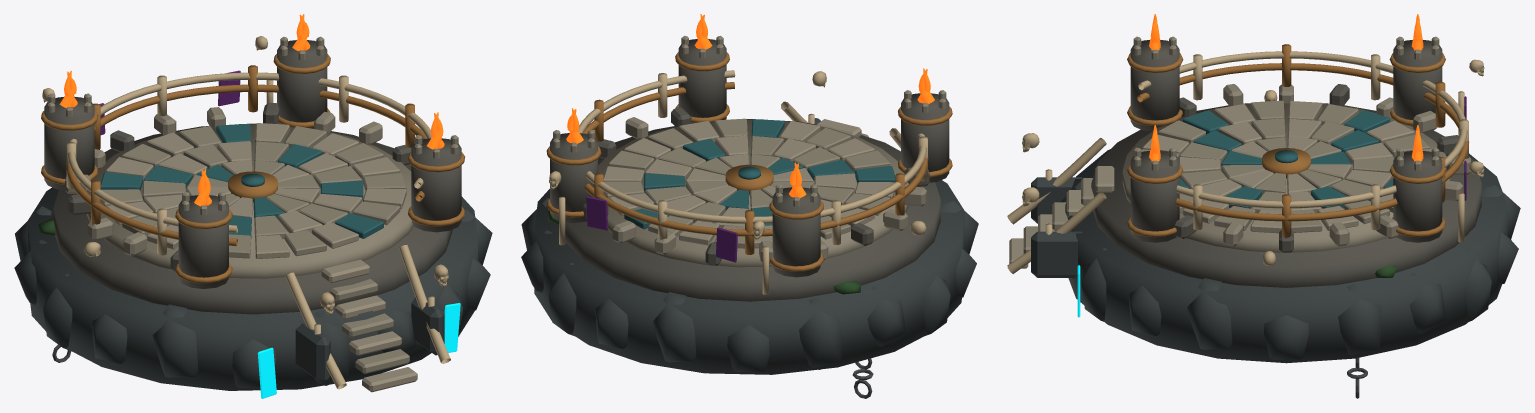
File: coliseum-pit-v002.glb
3 renders of one model, left to right at view 1: azimuth 30°, elevation 25°; view 2: azimuth 150°, elevation 25°; view 3: azimuth 270°, elevation 25°, orthographic. The views are drawn at different scales.
Visible parts, largest first — view 1: Fortified arena cliff foundation, Stepped arena terrace, Arena floor support, Cardinal torch tower 3, Upper bone guard rail, Cardinal torch tower 4, Outer bronze guard rail, Cardinal torch tower 1, Cardinal torch tower 2, Coliseum cliff rock 12, Stair retaining wall left, Coliseum cliff rock 11 (+73 smaller); view 2: Fortified arena cliff foundation, Stepped arena terrace, Arena floor support, Cardinal torch tower 2, Upper bone guard rail, Outer bronze guard rail, Cardinal torch tower 4, Cardinal torch tower 3, Cardinal torch tower 1, Coliseum cliff rock 6, Coliseum cliff rock 8, Coliseum cliff rock 7 (+48 smaller); view 3: Fortified arena cliff foundation, Stepped arena terrace, Arena floor support, Upper bone guard rail, Outer bronze guard rail, Cardinal torch tower 4, Cardinal torch tower 1, Cardinal torch tower 3, Cardinal torch tower 2, Coliseum cliff rock 18, Stair retaining wall right, Coliseum cliff rock 2 (+40 smaller).
Boxes of the visible parts, x1,y1,x2,y2 form: Fortified arena cliff foundation: (28, 187, 477, 390); Stepped arena terrace: (53, 123, 452, 314); Arena floor support: (86, 124, 413, 278); Cardinal torch tower 3: (178, 195, 228, 288); Upper bone guard rail: (68, 72, 431, 232); Cardinal torch tower 4: (411, 138, 461, 232); Outer bronze guard rail: (66, 84, 426, 246); Cardinal torch tower 1: (277, 40, 327, 128); Cardinal torch tower 2: (44, 96, 94, 190); Coliseum cliff rock 12: (152, 304, 198, 377); Stair retaining wall left: (295, 320, 330, 382); Coliseum cliff rock 11: (91, 314, 127, 363); Fortified arena cliff foundation: (534, 180, 964, 374); Stepped arena terrace: (565, 119, 940, 301); Arena floor support: (598, 119, 908, 267); Cardinal torch tower 2: (772, 187, 820, 277); Upper bone guard rail: (578, 70, 926, 223); Outer bronze guard rail: (583, 82, 928, 236); Cardinal torch tower 4: (678, 39, 726, 123); Cardinal torch tower 3: (901, 93, 949, 182); Cardinal torch tower 1: (550, 133, 597, 222); Coliseum cliff rock 6: (653, 292, 696, 362); Coliseum cliff rock 8: (799, 298, 842, 369); Coliseum cliff rock 7: (727, 325, 769, 371); Fortified arena cliff foundation: (1065, 149, 1507, 363); Stepped arena terrace: (1091, 103, 1481, 287); Arena floor support: (1122, 103, 1450, 252); Upper bone guard rail: (1138, 51, 1467, 208); Outer bronze guard rail: (1137, 63, 1469, 221); Cardinal torch tower 4: (1130, 151, 1179, 242); Cardinal torch tower 1: (1393, 151, 1442, 242); Cardinal torch tower 3: (1130, 40, 1179, 131); Cardinal torch tower 2: (1393, 40, 1442, 126); Coliseum cliff rock 18: (1187, 278, 1232, 349); Stair retaining wall right: (1031, 231, 1082, 277); Coliseum cliff rock 2: (1338, 284, 1381, 355).
Size of the model in its own units: 3.47 by 2.05 by 3.76.
